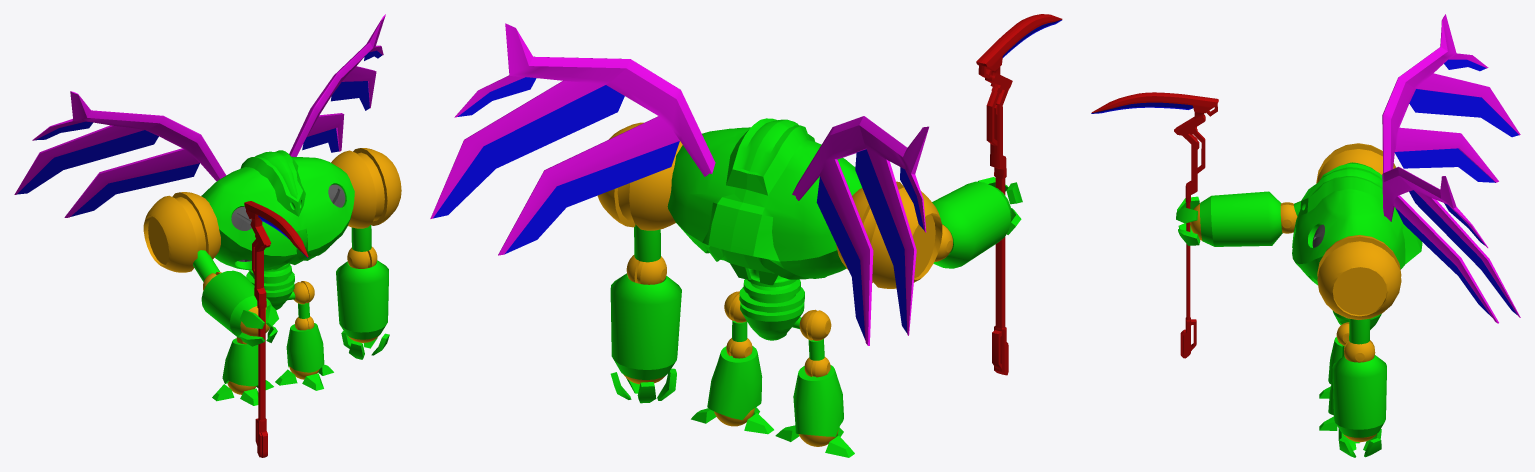
Rendered from Robot_ID.fbx.
3 renders of one model, left to right at view 1: azimuth 30°, elevation 25°; view 2: azimuth 150°, elevation 25°; view 3: azimuth 270°, elevation 25°, orthographic. The views are drawn at different scales.
Visible parts, largest first — view 1: polySurface627; view 2: polySurface627; view 3: polySurface627.
Part boxes in pixels (x1,y1,x2,y2): polySurface627: (14, 14, 401, 457); polySurface627: (430, 14, 1062, 457); polySurface627: (1091, 14, 1520, 457).
Size of the model in its own units: 6.48 by 5.24 by 6.43.
